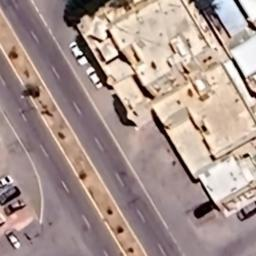sedan: (0, 228, 26, 253), (68, 41, 90, 68), (0, 197, 30, 215), (84, 67, 105, 89), (0, 172, 16, 188)
